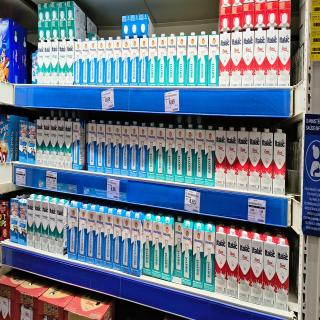Milk: (272, 127, 287, 202), (248, 124, 262, 198), (204, 122, 216, 192), (215, 124, 226, 192), (226, 124, 237, 191), (184, 121, 194, 185), (66, 1, 87, 30), (165, 122, 175, 180), (104, 205, 113, 268), (134, 211, 142, 279), (130, 120, 139, 177), (17, 195, 27, 245), (66, 19, 88, 41), (114, 206, 121, 275), (105, 118, 114, 170), (88, 115, 96, 173), (49, 196, 57, 254), (27, 120, 37, 165), (64, 116, 72, 172), (88, 202, 95, 265), (50, 40, 59, 87), (105, 37, 114, 83), (18, 120, 27, 165), (36, 116, 44, 165), (90, 37, 97, 89), (67, 39, 74, 91), (37, 41, 44, 84), (122, 16, 132, 37), (130, 14, 140, 35), (51, 19, 60, 42), (51, 0, 60, 22), (139, 13, 148, 35), (43, 2, 52, 23), (58, 2, 68, 20), (37, 3, 45, 22), (59, 20, 67, 37)
